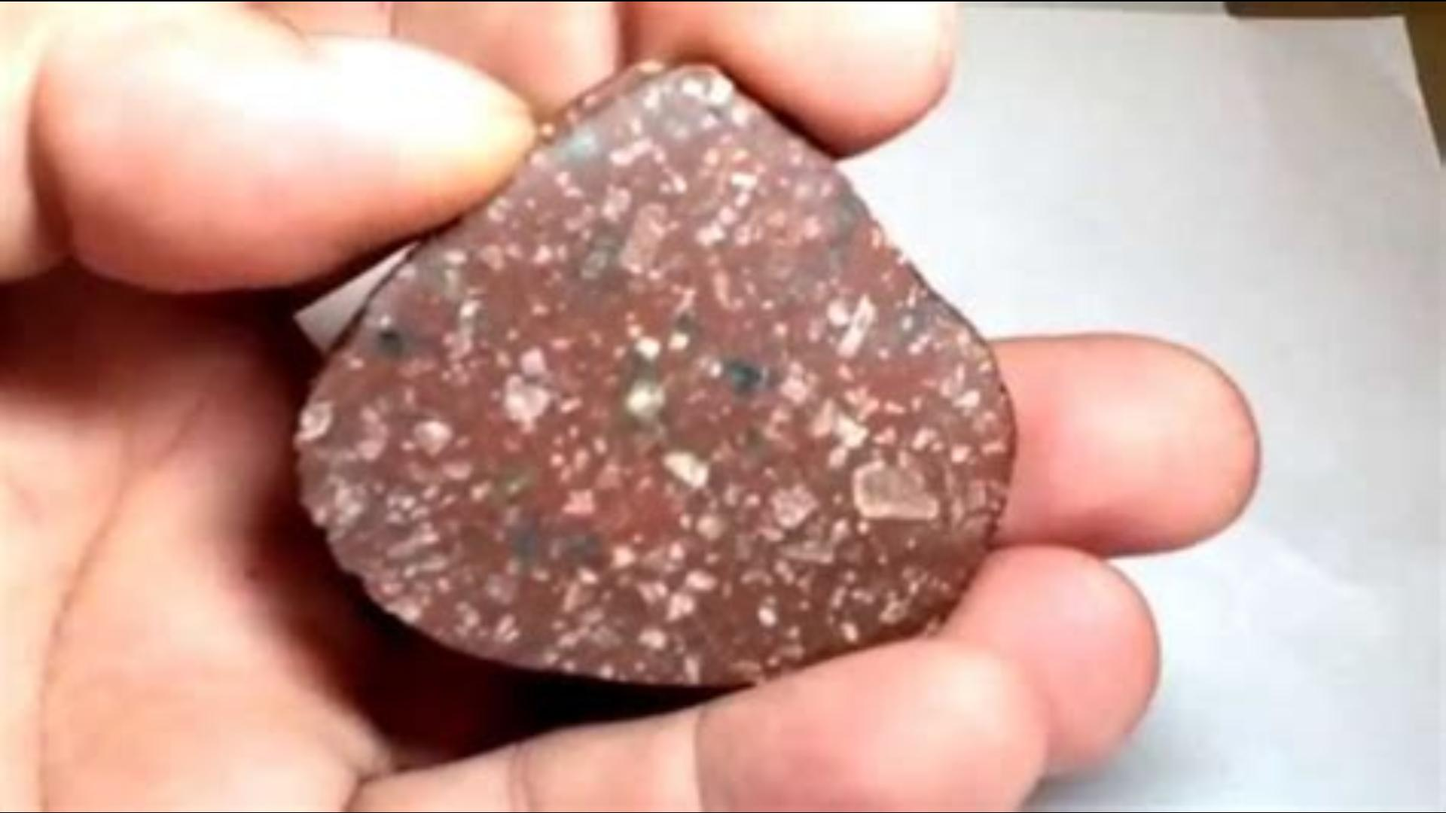rock: (296, 68, 1010, 681)
